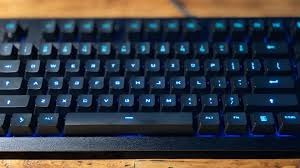keyboard: (0, 19, 300, 151)
